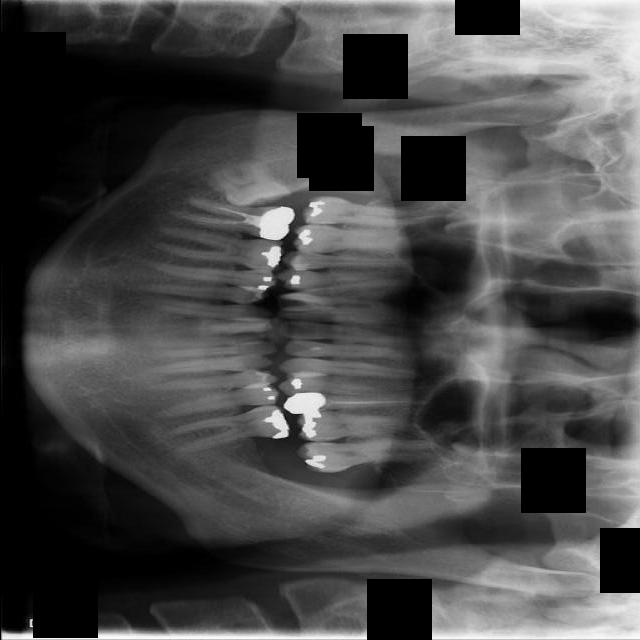52: (239, 399, 293, 448), (295, 438, 352, 476), (239, 234, 285, 276), (293, 223, 343, 255), (300, 196, 355, 225), (296, 410, 341, 444), (280, 370, 331, 398), (282, 390, 329, 415), (236, 381, 279, 407), (236, 268, 278, 293), (276, 268, 321, 291), (282, 338, 329, 359)
73: (174, 196, 260, 234), (325, 391, 431, 411), (46, 613, 50, 617)
BioHorizons Implant: (295, 437, 441, 474)
Caries: (301, 194, 433, 232)
Implant: (173, 196, 297, 242)
Keystone Dental Implant: (201, 138, 293, 229)
